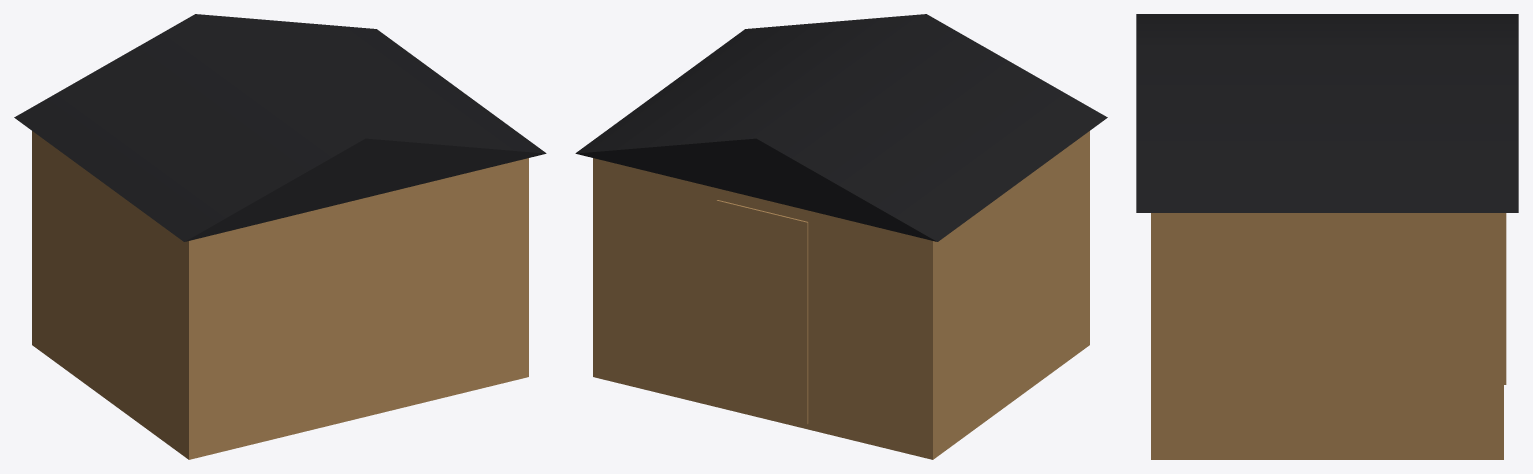
The model's file is home.garden.shed_large.glb.
3 renders of one model, left to right at view 1: azimuth 30°, elevation 25°; view 2: azimuth 150°, elevation 25°; view 3: azimuth 270°, elevation 25°, orthographic. The views are drawn at different scales.
Visible parts, largest first — view 1: main__softwood, main__roof_felt; view 2: main__softwood, main__roof_felt; view 3: main__softwood, main__roof_felt.
Boxes of the visible parts, <box> form: main__softwood: <box>32,131,528,459</box>; main__roof_felt: <box>14,14,546,241</box>; main__softwood: <box>593,131,1089,459</box>; main__roof_felt: <box>575,14,1107,241</box>; main__softwood: <box>1151,213,1506,459</box>; main__roof_felt: <box>1136,14,1518,212</box>.
Bounding box in the file's own units: 3.2 × 2.4 × 2.6.
